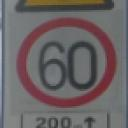speed_limit_60: (13, 16, 118, 109)
